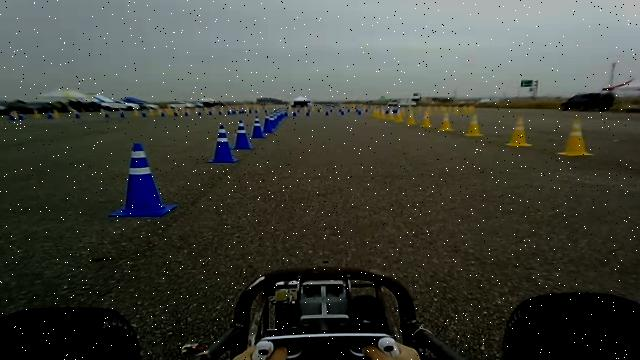blue cone: (109, 142, 178, 217), (206, 124, 238, 163), (232, 120, 252, 150), (251, 116, 265, 138), (272, 111, 286, 127), (263, 118, 272, 133)
yellow cone: (556, 118, 594, 157), (505, 115, 532, 147), (464, 113, 484, 137), (438, 112, 454, 132), (420, 108, 433, 128), (406, 107, 417, 125), (372, 105, 385, 119), (394, 111, 404, 123)
